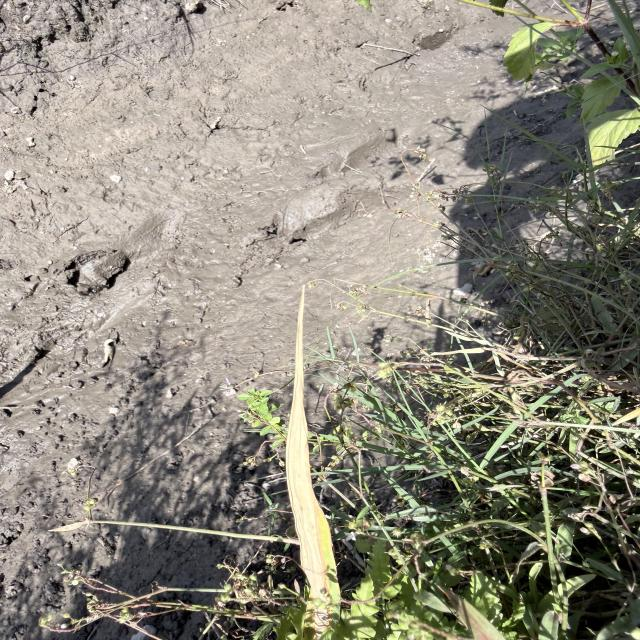Chay bia la: (286, 283, 332, 640)
